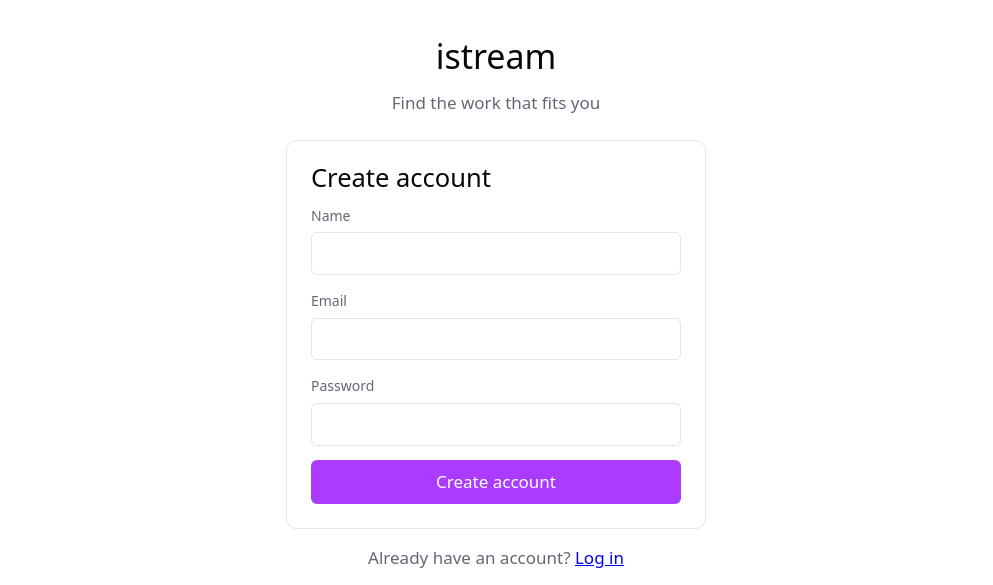
Test: RegisterPage › stores the token and shows the dashboard after successful registration
This screenshot has width=993, height=585.
Type "Mohit" into the field labelled "Name" at (496, 254), box [311, 232, 681, 275]
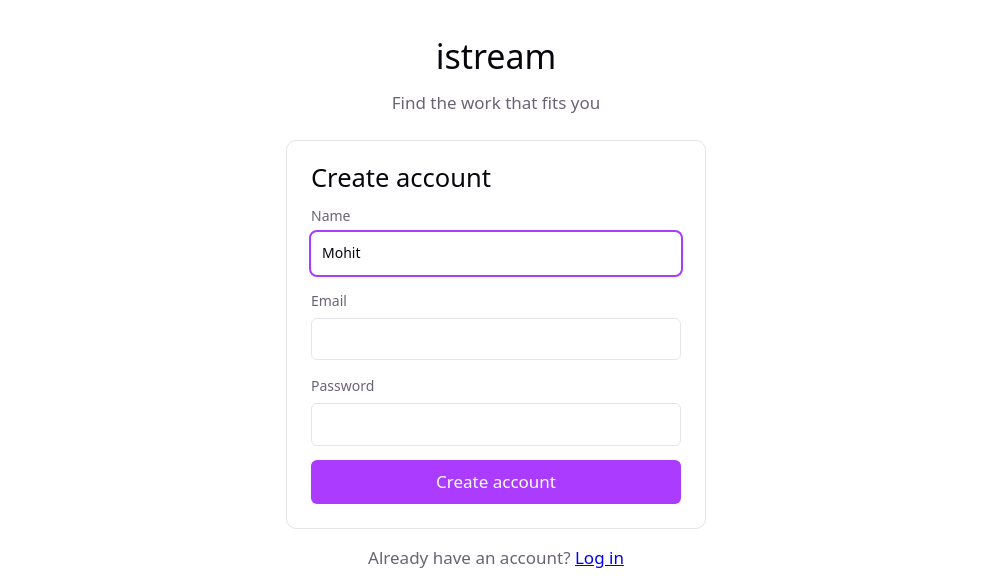
Type "mohit@example.com" into the field labelled "Email" at (496, 339), box [311, 318, 681, 360]
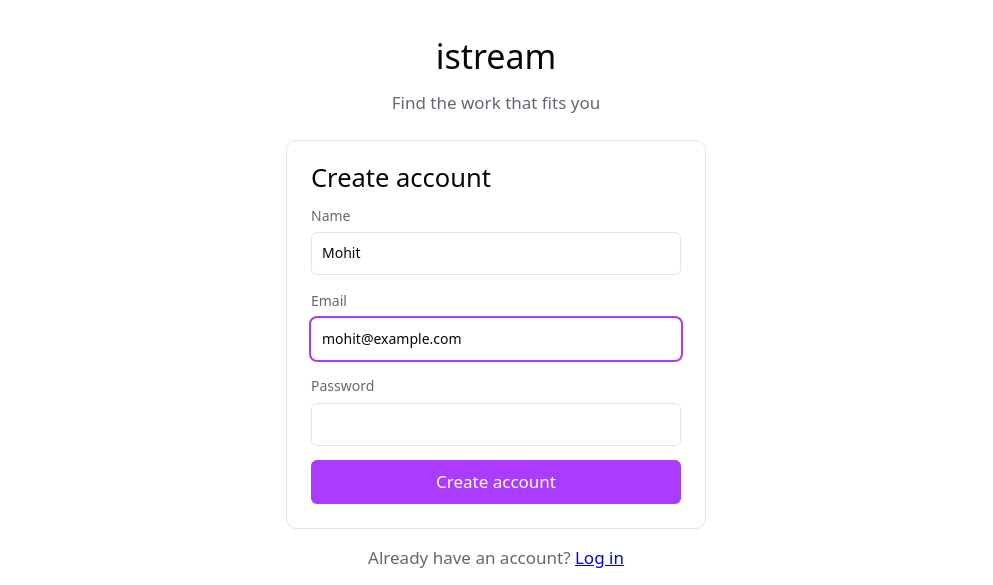
Type "supersecret1" into the password field labelled "Password" at (496, 424), box [311, 403, 681, 446]
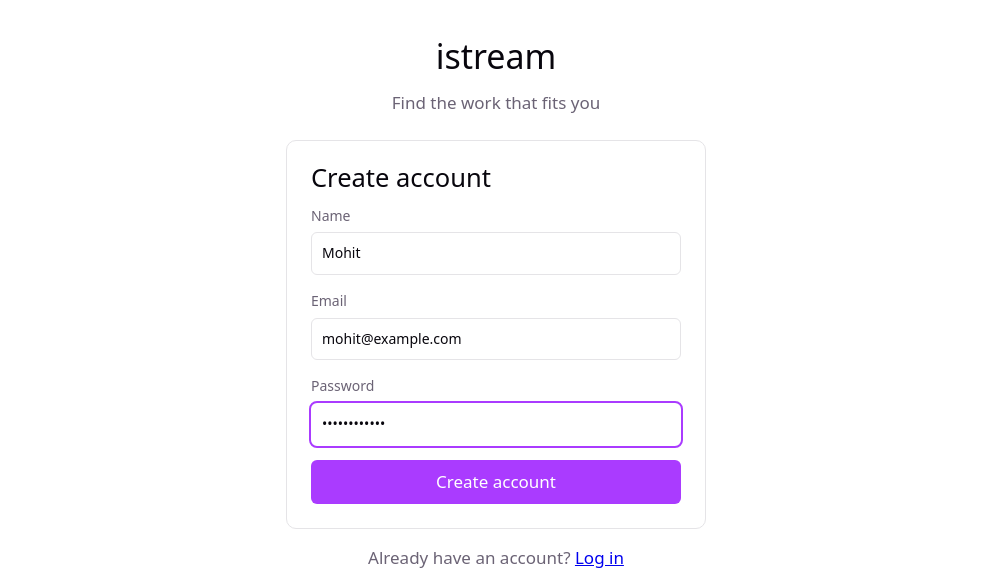
Click the button "Create account" at (496, 482), box [311, 460, 681, 504]
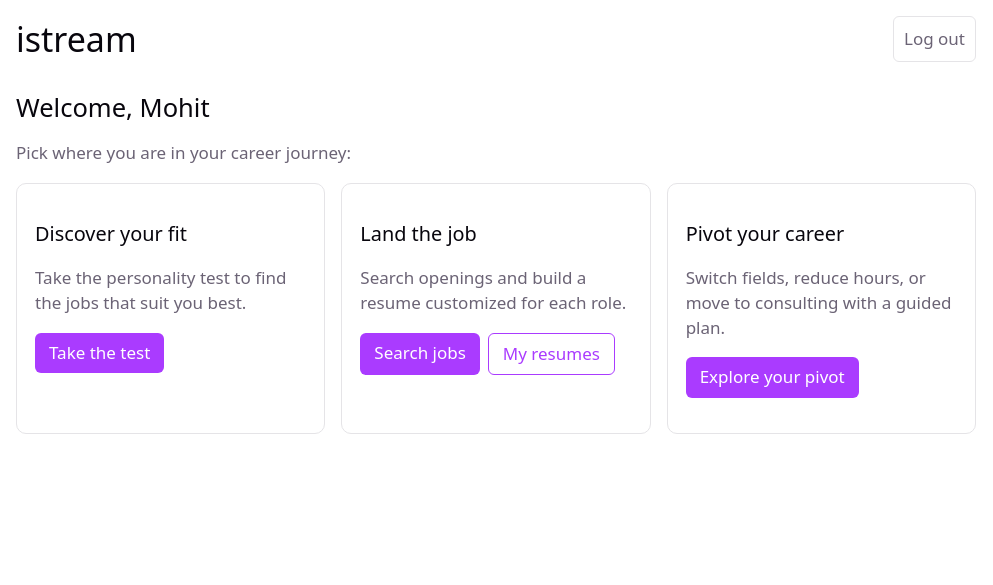
Expected: the heading "Welcome, Mohit" is shown, [16, 90, 210, 124]
